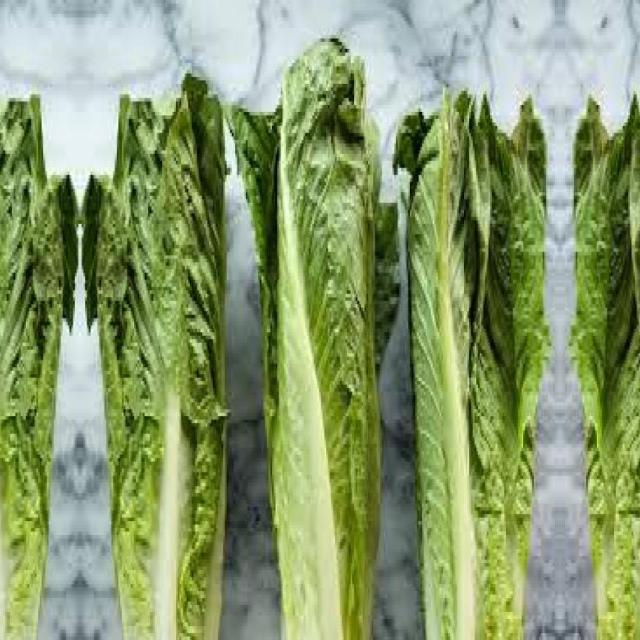healthy: (226, 38, 400, 640), (404, 48, 560, 640), (80, 70, 232, 640), (560, 48, 640, 640), (0, 70, 79, 640)
